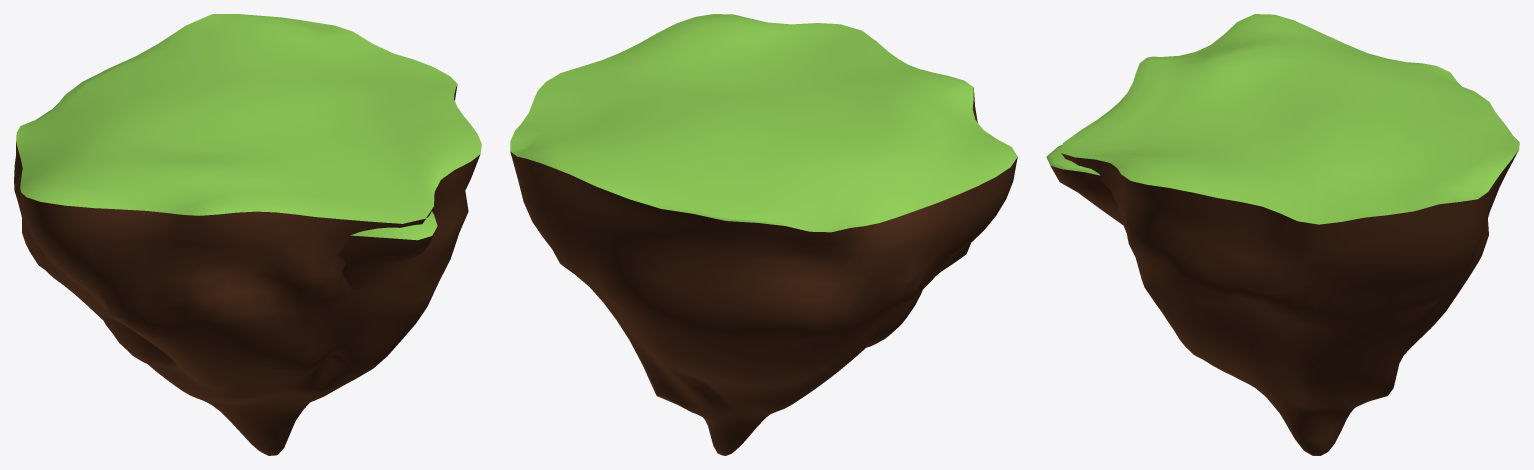
The model's file is Islands.fbx.
The picture shows the model from 3 angles, left to right: view 1: azimuth 30°, elevation 25°; view 2: azimuth 150°, elevation 25°; view 3: azimuth 270°, elevation 25°; orthographic projection. The views are drawn at different scales.
Parts seen in each view (by area): view 1: Island, Island1; view 2: Island, Island1; view 3: Island, Island1.
Boxes of the visible parts, <box> form: Island: <box>14,14,481,455</box>; Island1: <box>101,211,437,367</box>; Island: <box>510,14,1017,455</box>; Island1: <box>865,41,922,347</box>; Island: <box>1061,14,1519,455</box>; Island1: <box>1046,144,1124,225</box>.
Size of the model in its own units: 20.5 by 15.56 by 20.01.
